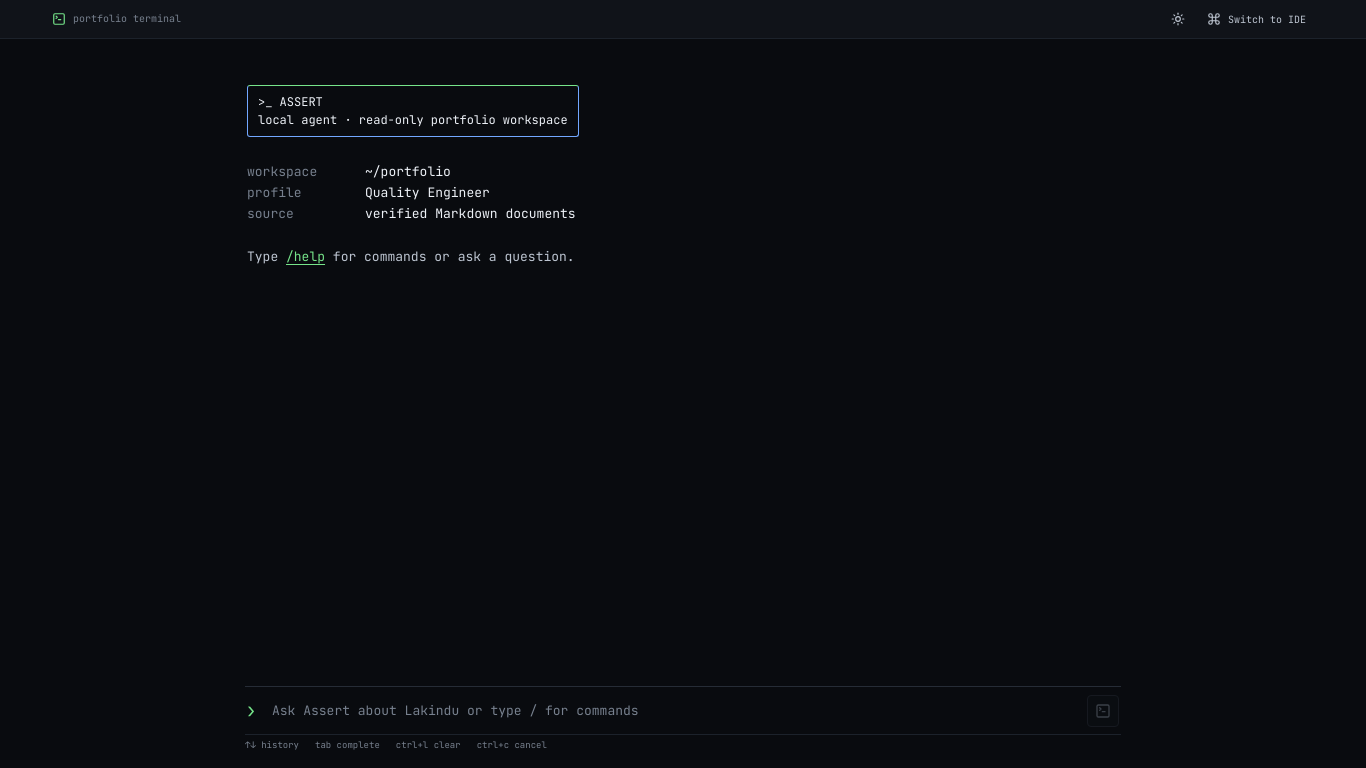
Test: Assert terminal › cancels after streaming has started
Type "/experience" into the field named "Terminal command" at x=676, y=710, box top-left (270, 701), bottom-right (1082, 720)
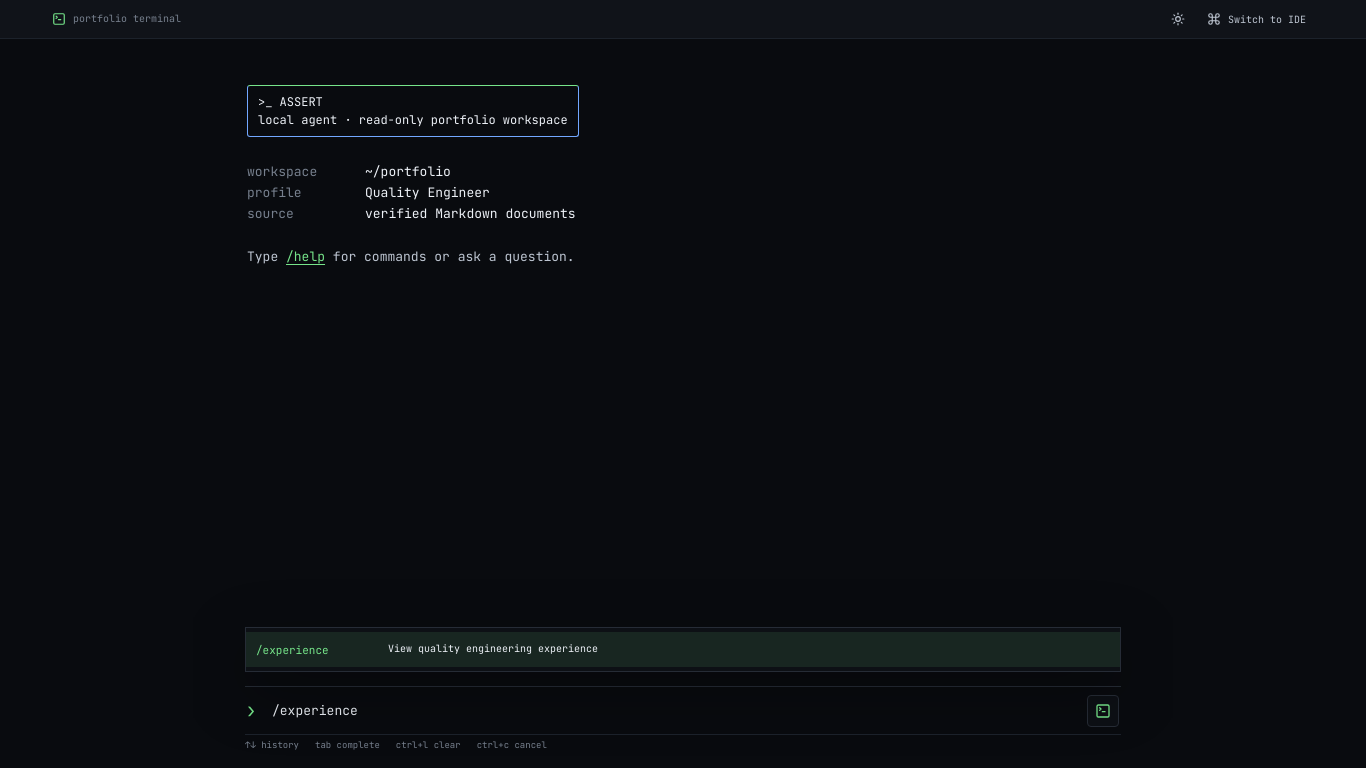
Submit the form named "Terminal command", box top-left (245, 686), bottom-right (1121, 734)
Wait 1800 ms
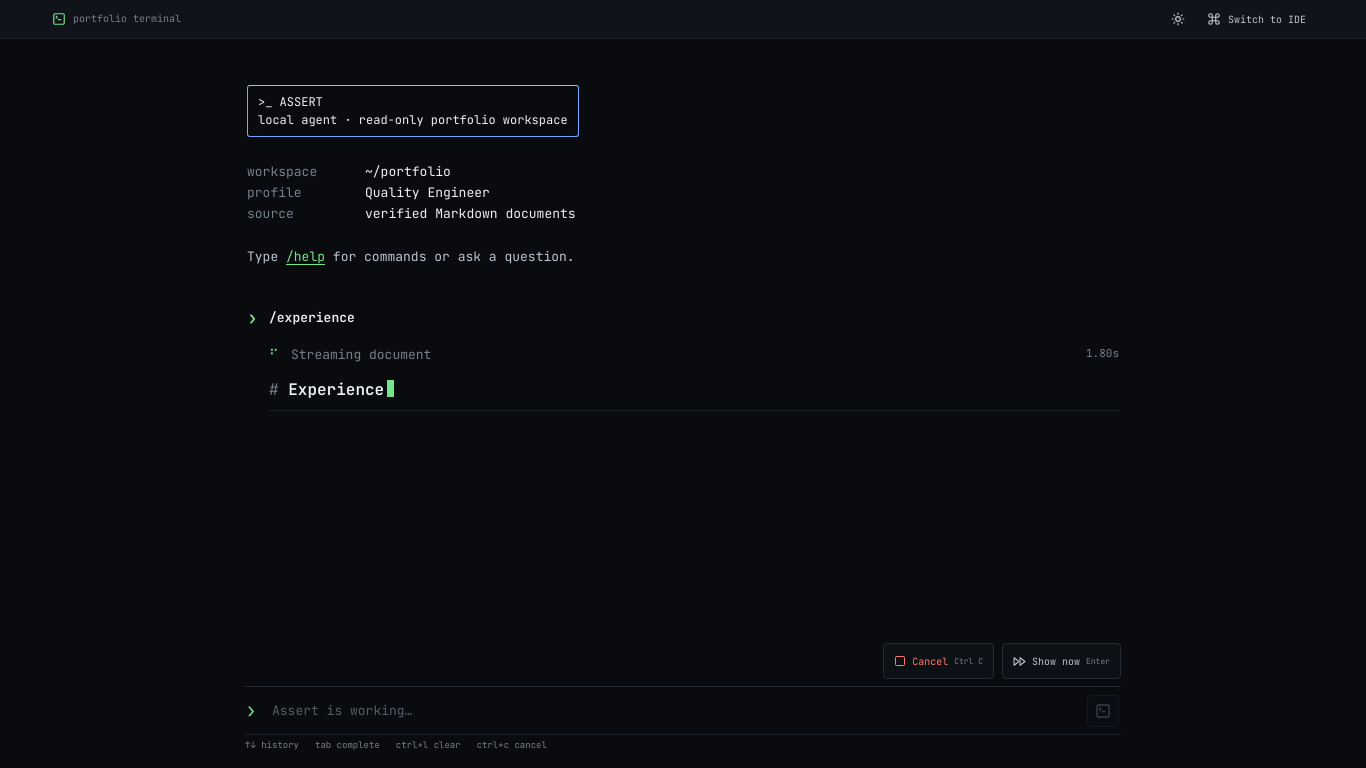
Click the button "Cancel Ctrl C" at x=939, y=661, box top-left (883, 643), bottom-right (994, 679)
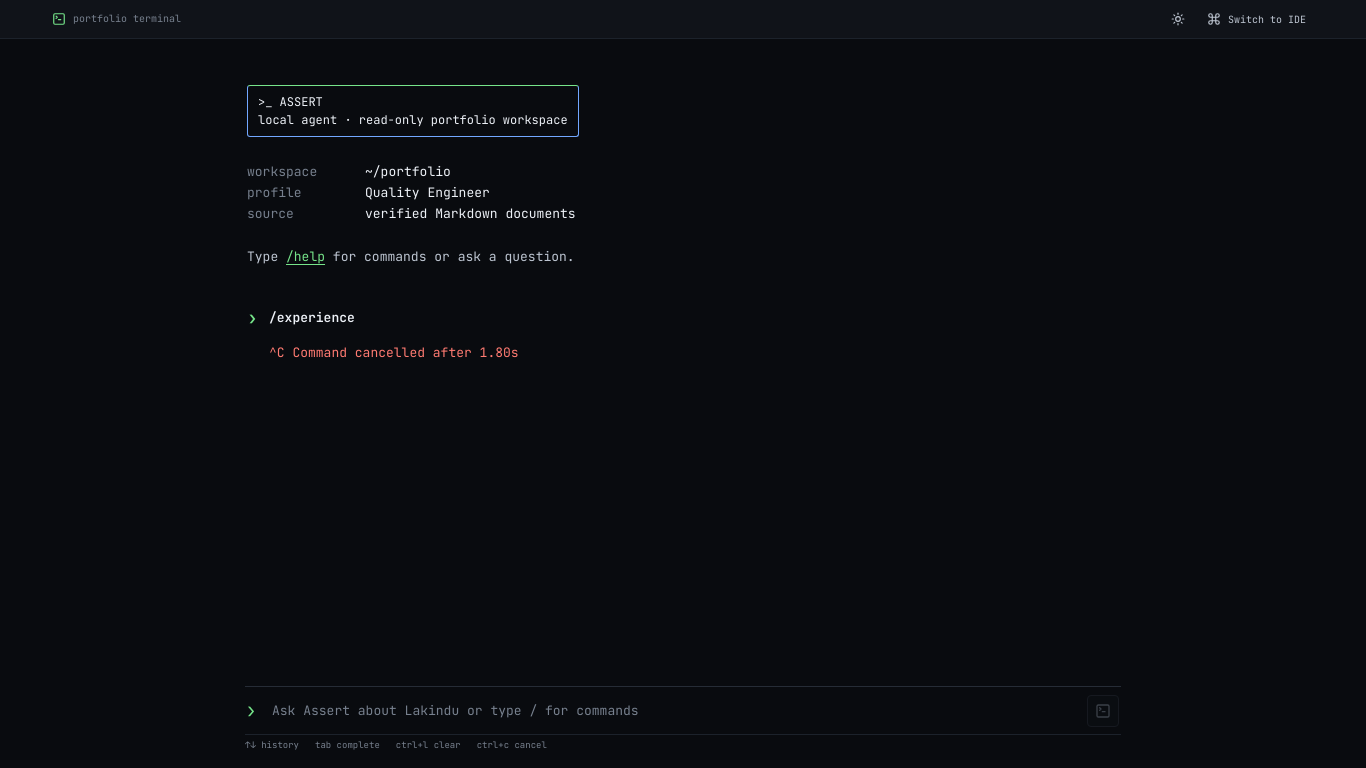
Now the text "^C Command cancelled after 1.80s" is shown, box top-left (269, 344), bottom-right (519, 361)
